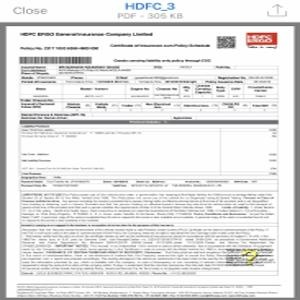image: (244, 30, 279, 44)
table: (20, 121, 281, 180), (21, 64, 280, 120)
text: (19, 192, 275, 224), (16, 28, 156, 41)
